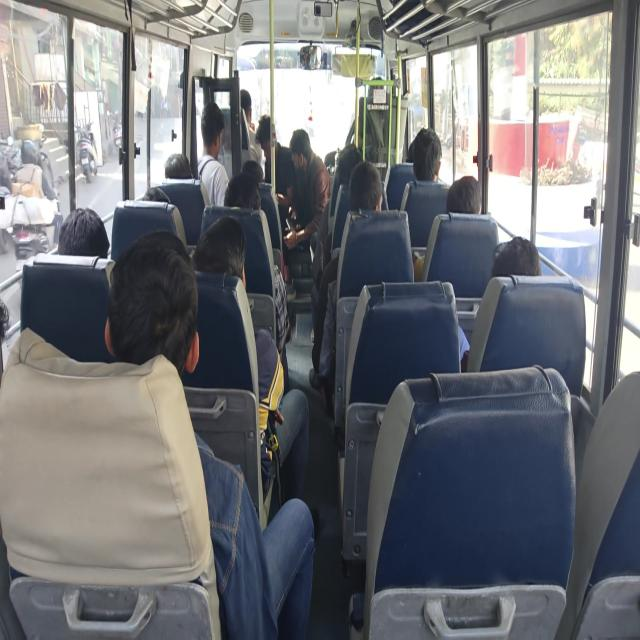person: (100, 232, 208, 379), (193, 206, 251, 294), (52, 192, 114, 265), (436, 159, 490, 221), (495, 224, 545, 282), (222, 165, 266, 223), (348, 153, 382, 225), (416, 111, 447, 179), (201, 99, 232, 166), (332, 130, 366, 177), (288, 130, 315, 188), (158, 146, 196, 185), (236, 86, 260, 132), (256, 116, 278, 163), (238, 159, 268, 185), (146, 181, 173, 209), (371, 66, 388, 108), (406, 136, 419, 165)
